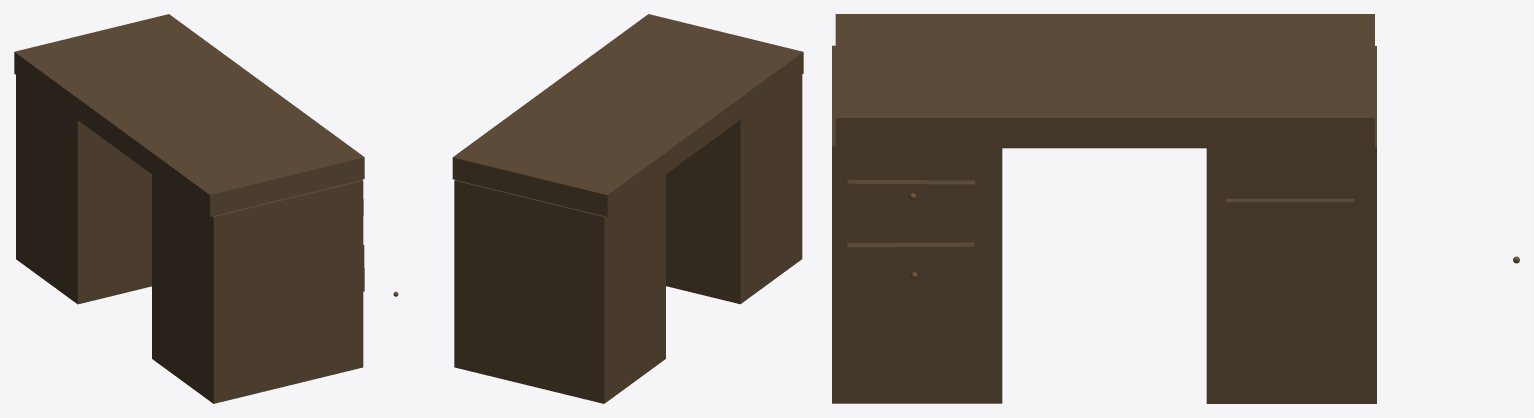
The model's file is Mini Desk V1.fbx.
The picture shows the model from 3 angles, left to right: view 1: azimuth 30°, elevation 25°; view 2: azimuth 150°, elevation 25°; view 3: azimuth 270°, elevation 25°; orthographic projection. The views are drawn at different scales.
Visible parts, largest first — view 1: Cube.001, Cube, Cube.002; view 2: Cube.002, Cube, Cube.001; view 3: Cube, Cube.001, Cube.002.
Part boxes in pixels (bbox=[...]): Cube.001: bbox=[152, 174, 364, 403]; Cube: bbox=[14, 14, 364, 216]; Cube.002: bbox=[16, 75, 151, 304]; Cube.002: bbox=[454, 174, 665, 403]; Cube: bbox=[452, 14, 803, 216]; Cube.001: bbox=[666, 75, 802, 304]; Cube: bbox=[835, 14, 1374, 148]; Cube.001: bbox=[832, 45, 1002, 403]; Cube.002: bbox=[1206, 46, 1376, 403].
Bounding box in the file's own units: 304 × 373 × 808.
